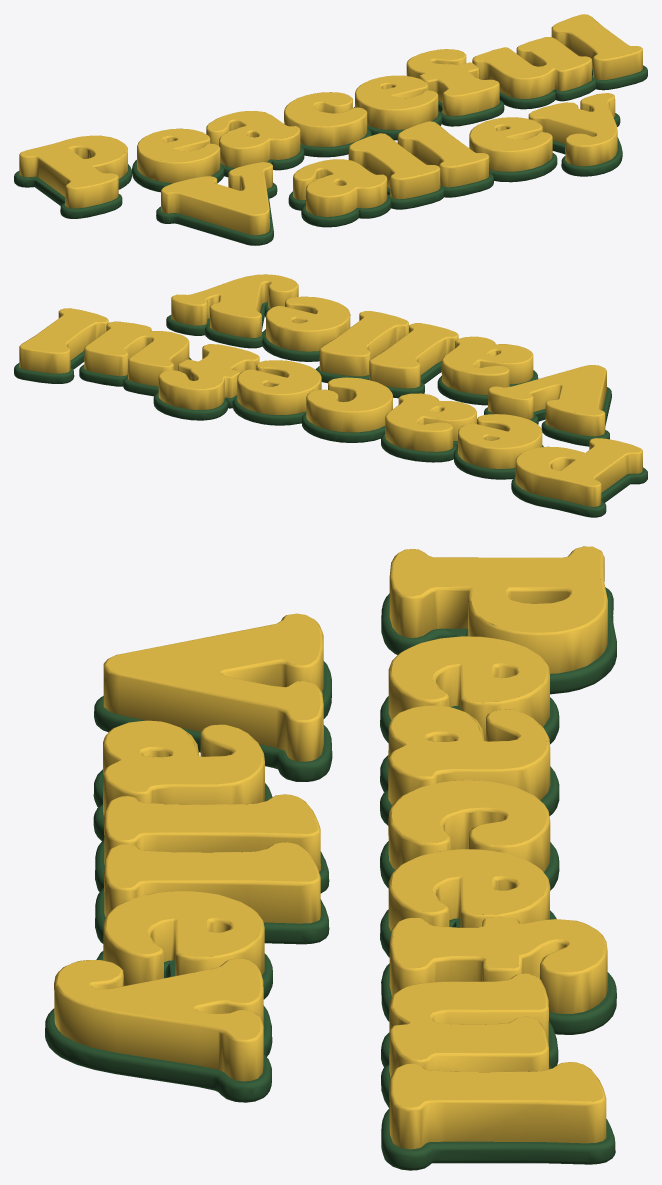
The model's file is TitleText.fbx.
3 renders of one model, top to bottom at view 1: azimuth 30°, elevation 25°; view 2: azimuth 150°, elevation 25°; view 3: azimuth 270°, elevation 25°, orthographic. The views are drawn at different scales.
Visible parts, largest first — view 1: Text, Text.001; view 2: Text, Text.001; view 3: Text, Text.001.
Part boxes in pixels (x1,y1,x2,y2): Text: [19, 14, 642, 235]; Text.001: [14, 65, 647, 245]; Text: [19, 274, 642, 506]; Text.001: [14, 302, 647, 517]; Text: [54, 546, 607, 1149]; Text.001: [45, 587, 616, 1170].
Bounding box in the file's own units: 374 × 18.09 × 158.
